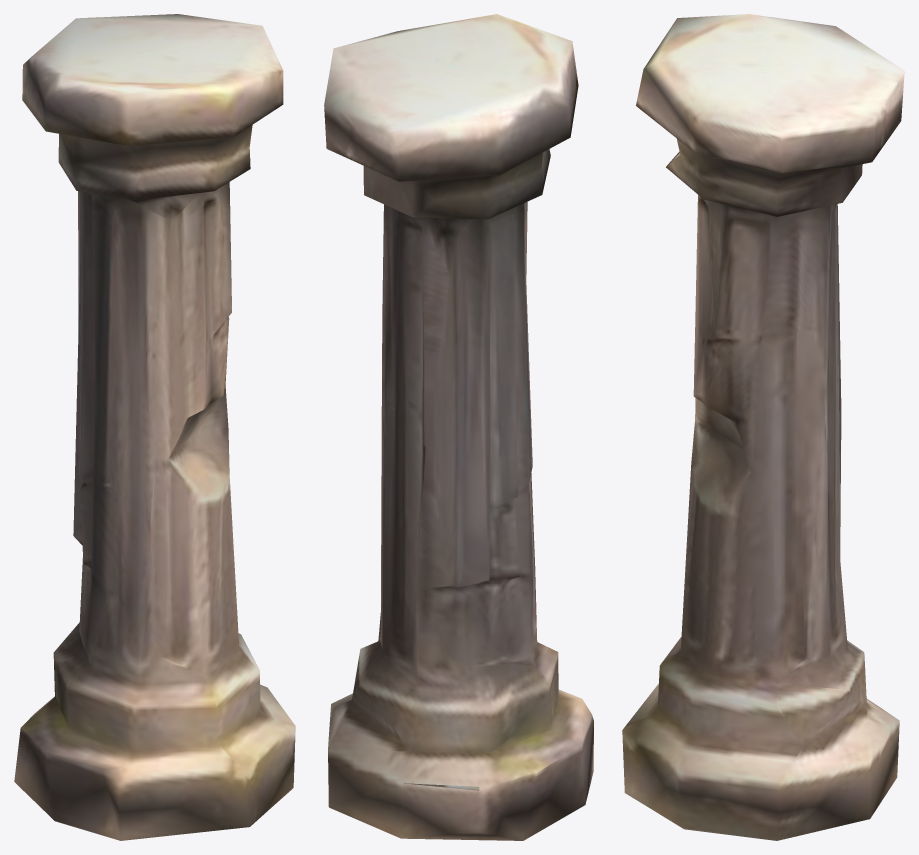
Rendered from column_round.glb.
The picture shows the model from 3 angles, left to right: view 1: azimuth 30°, elevation 25°; view 2: azimuth 150°, elevation 25°; view 3: azimuth 270°, elevation 25°; orthographic projection.
Parts seen in each view (by area): view 1: column_round; view 2: column_round; view 3: column_round.
Part boxes in pixels (x1,y1,x2,y2): column_round: (14, 14, 295, 840); column_round: (324, 14, 593, 840); column_round: (622, 14, 904, 840).
Bounding box in the file's own units: 1.21 × 3.6 × 1.26.
Materials: 1 (1 with a texture image).
